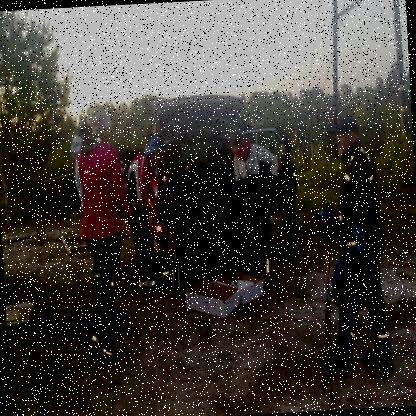Car: (142, 90, 296, 266)
